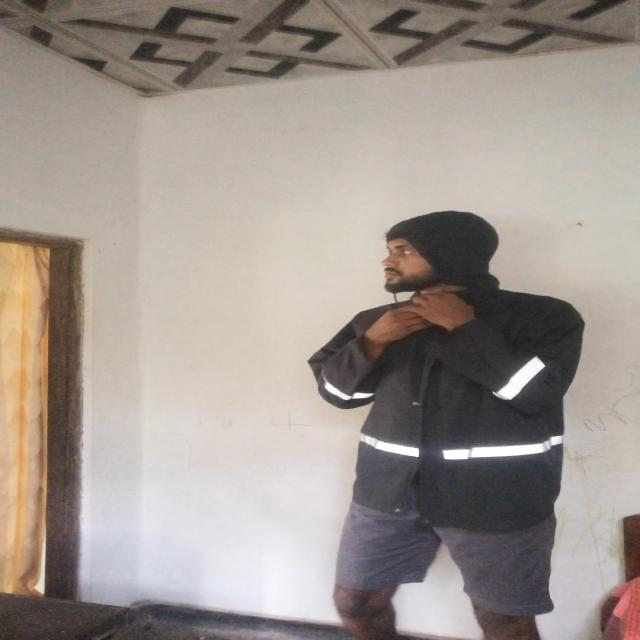Jacket_Wearer: (300, 206, 593, 514)
